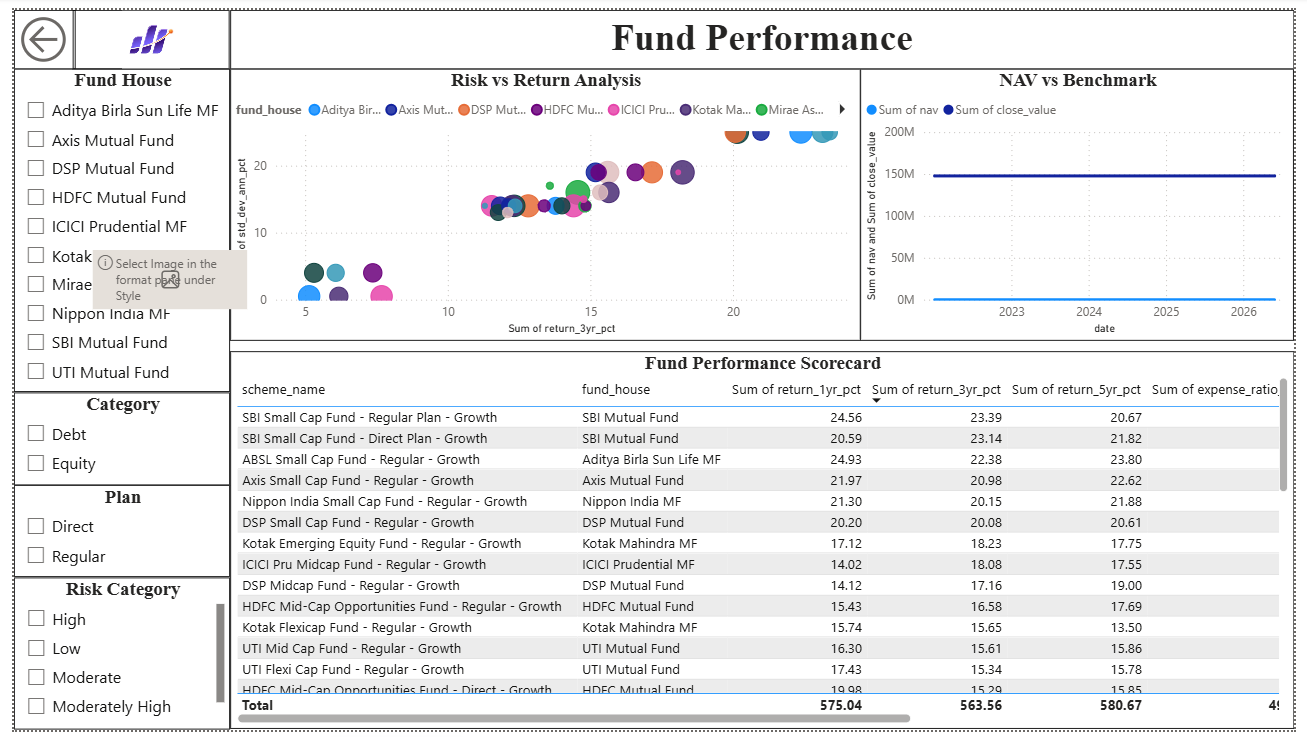

The dashboard page shown, as its layout file describes it:
{"tool":"powerbi","page":{"name":"Fund Performance","canvas":[1280,720],"ordinal":1},"visuals":[{"type":"scatterChart","title":"Risk vs Return Analysis","fields":{"X":["Sum(07_scheme_performance_clean.return_3yr_pct)"],"Y":["Sum(07_scheme_performance_clean.std_dev_ann_pct)"],"Size":["Sum(07_scheme_performance_clean.aum_crore)"],"Series":["07_scheme_performance_clean.fund_house"],"Category":["07_scheme_performance_clean.scheme_name"]},"box":[216.3,59.3,630.2,272.1],"z":0},{"type":"tableEx","title":"Fund Performance Scorecard","fields":{"Values":["07_scheme_performance_clean.scheme_name","07_scheme_performance_clean.fund_house","Sum(07_scheme_performance_clean.return_1yr_pct)","Sum(07_scheme_performance_clean.return_3yr_pct)","Sum(07_scheme_performance_clean.return_5yr_pct)","Sum(07_scheme_performance_clean.expense_ratio_pct)","Sum(07_scheme_performance_clean.alpha)","Sum(07_scheme_performance_clean.beta)","Sum(07_scheme_performance_clean.sharpe_ratio)","Sum(07_scheme_performance_clean.sortino_ratio)","07_scheme_performance_clean.risk_grade"]},"box":[216.3,341.9,1064,377.9],"z":1000},{"type":"actionButton","box":[0,0,61.6,59.3],"z":2000},{"type":"lineChart","title":"NAV vs Benchmark","fields":{"Y":["Sum(02_nav_history_clean.nav)","Sum(10_benchmark_indices_clean.close_value)"],"Category":["02_nav_history_clean.date"]},"box":[846.5,59.3,433.7,272.1],"z":3000},{"type":"slicer","title":"Fund House","fields":{"Values":["01_fund_master_clean.fund_house"]},"box":[0,59.3,216.3,323.3],"z":4000},{"type":"slicer","title":"Category","fields":{"Values":["01_fund_master_clean.category"]},"box":[0,382.6,216.3,93],"z":5000},{"type":"slicer","title":"Plan","fields":{"Values":["01_fund_master_clean.plan"]},"box":[0,475.6,216.3,91.9],"z":6000},{"type":"textbox","box":[216.3,0,1064,59.3],"z":7000},{"type":"slicer","title":"Risk Category","fields":{"Values":["01_fund_master_clean.risk_category"]},"box":[0,567.4,216.3,152.3],"z":8000},{"type":"image","box":[79.1,239.5,154.7,59.3],"z":8001},{"type":"image","box":[59.3,0,157,59.3],"z":8002}]}

Visuals, with their boxes in screenshot pixels (x1, y1, x2, y2):
"Risk vs Return Analysis" scatterChart: crop(225, 63, 859, 337)
"Fund Performance Scorecard" tableEx: crop(225, 348, 1296, 728)
actionButton: crop(7, 3, 69, 63)
"NAV vs Benchmark" lineChart: crop(859, 63, 1296, 337)
"Fund House" slicer: crop(7, 63, 225, 389)
"Category" slicer: crop(7, 389, 225, 482)
"Plan" slicer: crop(7, 482, 225, 575)
textbox: crop(225, 3, 1296, 63)
"Risk Category" slicer: crop(7, 575, 225, 728)
image: crop(86, 245, 242, 304)
image: crop(67, 3, 225, 63)
